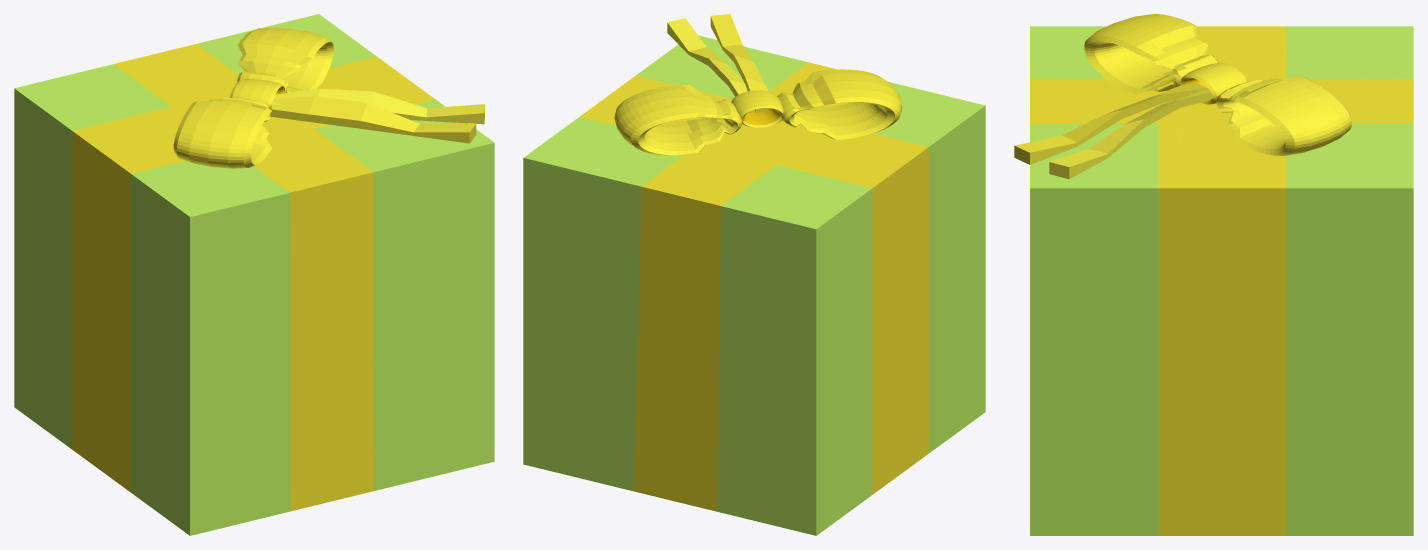
The model's file is PresentGreen.glb.
3 renders of one model, left to right at view 1: azimuth 30°, elevation 25°; view 2: azimuth 150°, elevation 25°; view 3: azimuth 270°, elevation 25°, orthographic. The views are drawn at different scales.
Parts seen in each view (by area): view 1: Cube; view 2: Cube; view 3: Cube.
Boxes of the visible parts, bbox=[...] form: Cube: bbox=[14, 14, 494, 535]; Cube: bbox=[523, 14, 985, 535]; Cube: bbox=[1014, 14, 1413, 535].
Bounding box in the file's own units: 2.05 × 2.28 × 2.08.
Materials: 1 (1 with a texture image).
